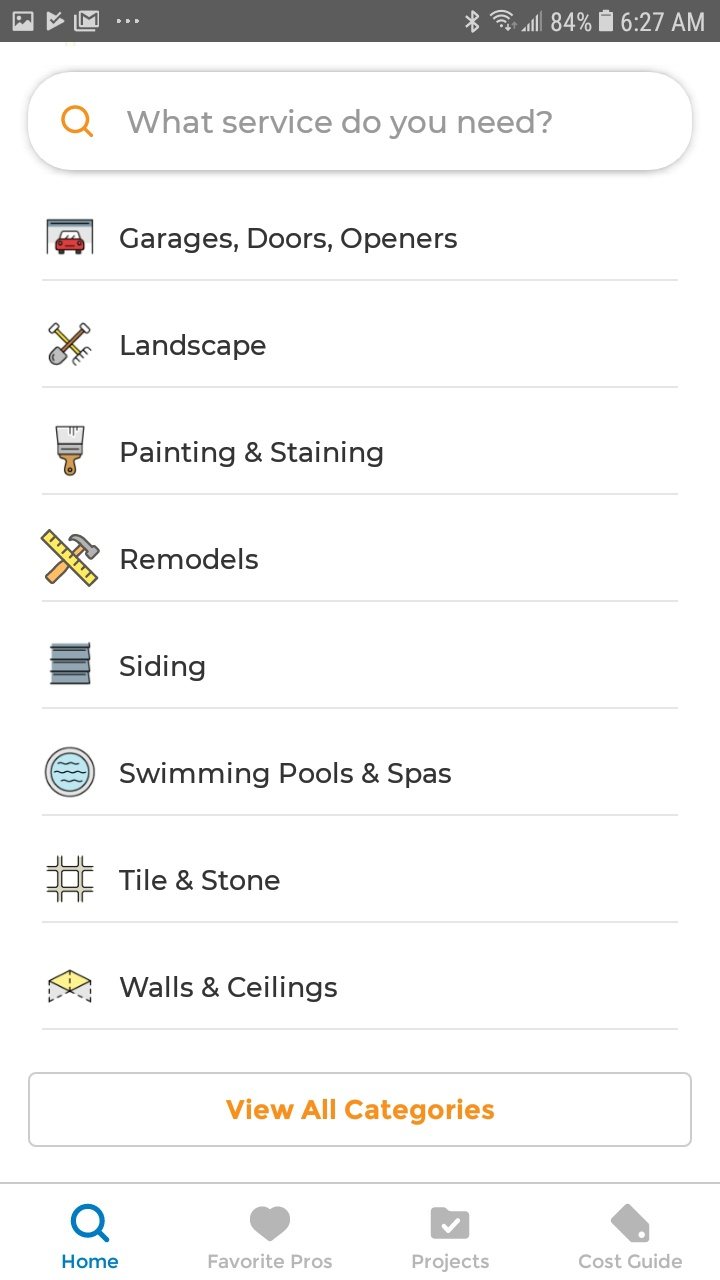EditText: (28, 73, 693, 172)
Icon: (610, 1203, 650, 1243), (71, 1203, 111, 1243), (250, 1206, 291, 1242), (431, 1207, 470, 1240), (61, 105, 95, 139)
Image: (41, 529, 102, 588), (45, 746, 96, 798), (46, 854, 95, 903), (49, 322, 94, 367), (50, 642, 92, 686), (47, 219, 95, 256), (55, 425, 86, 477), (48, 969, 93, 1004)
Text: (126, 109, 553, 141), (120, 762, 452, 789), (120, 229, 458, 255), (121, 440, 384, 468), (120, 976, 338, 1003), (121, 334, 267, 361), (119, 868, 281, 891), (121, 548, 259, 570), (120, 655, 206, 682), (208, 1252, 333, 1269), (578, 1252, 682, 1269), (412, 1253, 490, 1273), (62, 1253, 119, 1269)
TextButton: (28, 1072, 692, 1148)
UpperTaskBar: (1, 1, 720, 43)
